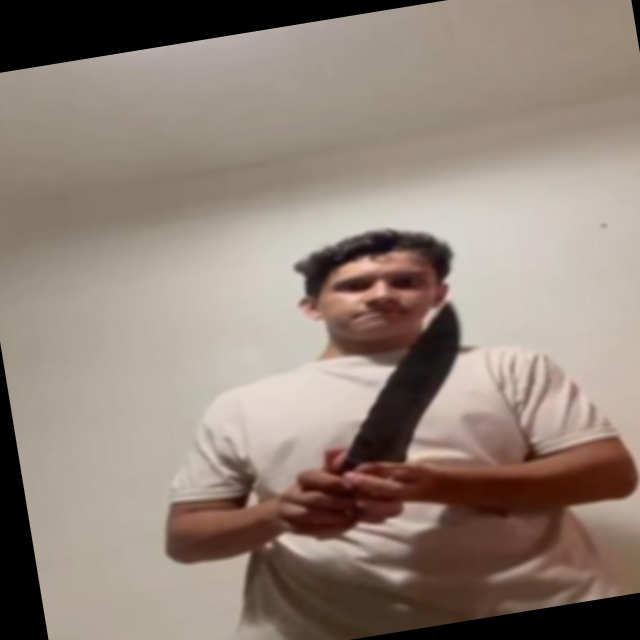Sharp-Object: (324, 299, 486, 473)
